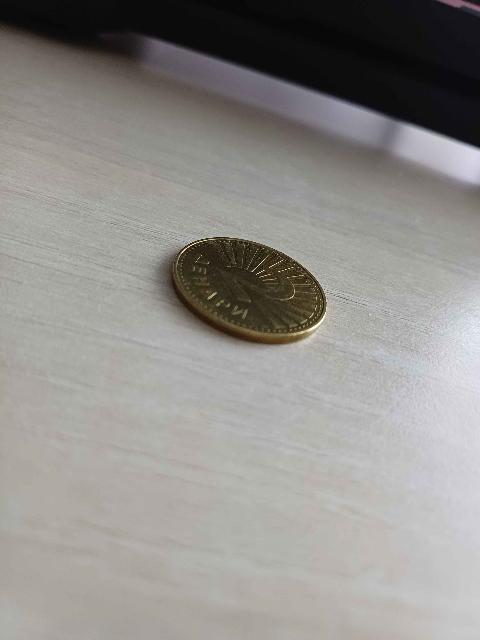coin: (173, 238, 326, 343)
